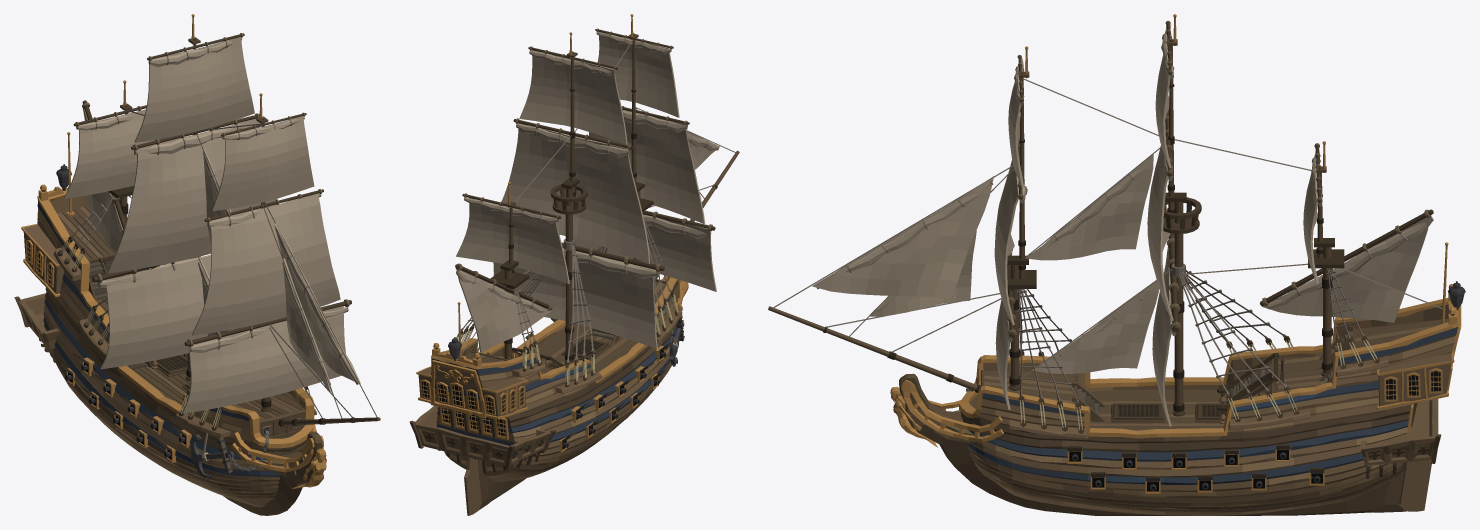
File: SM_Veh_Boat_Warship_01_Hull.glb
3 views of the same model, side by side, from view 1: azimuth 30°, elevation 25°; view 2: azimuth 150°, elevation 25°; view 3: azimuth 270°, elevation 25° (orthographic). The views are drawn at different scales.
Visible parts, largest first — view 1: SM_Veh_Boat_Warship_01_Mast_SailUp_03; view 2: SM_Veh_Boat_Warship_01_Mast_SailUp_03; view 3: SM_Veh_Boat_Warship_01_Mast_SailUp_03.
Boxes of the visible parts, left/top/right/bottom form: SM_Veh_Boat_Warship_01_Mast_SailUp_03: left=14, top=14, right=380, bottom=515; SM_Veh_Boat_Warship_01_Mast_SailUp_03: left=409, top=14, right=739, bottom=515; SM_Veh_Boat_Warship_01_Mast_SailUp_03: left=768, top=14, right=1465, bottom=515.
Bounding box in the file's own units: 0.1459 × 0.315 × 0.3975.
